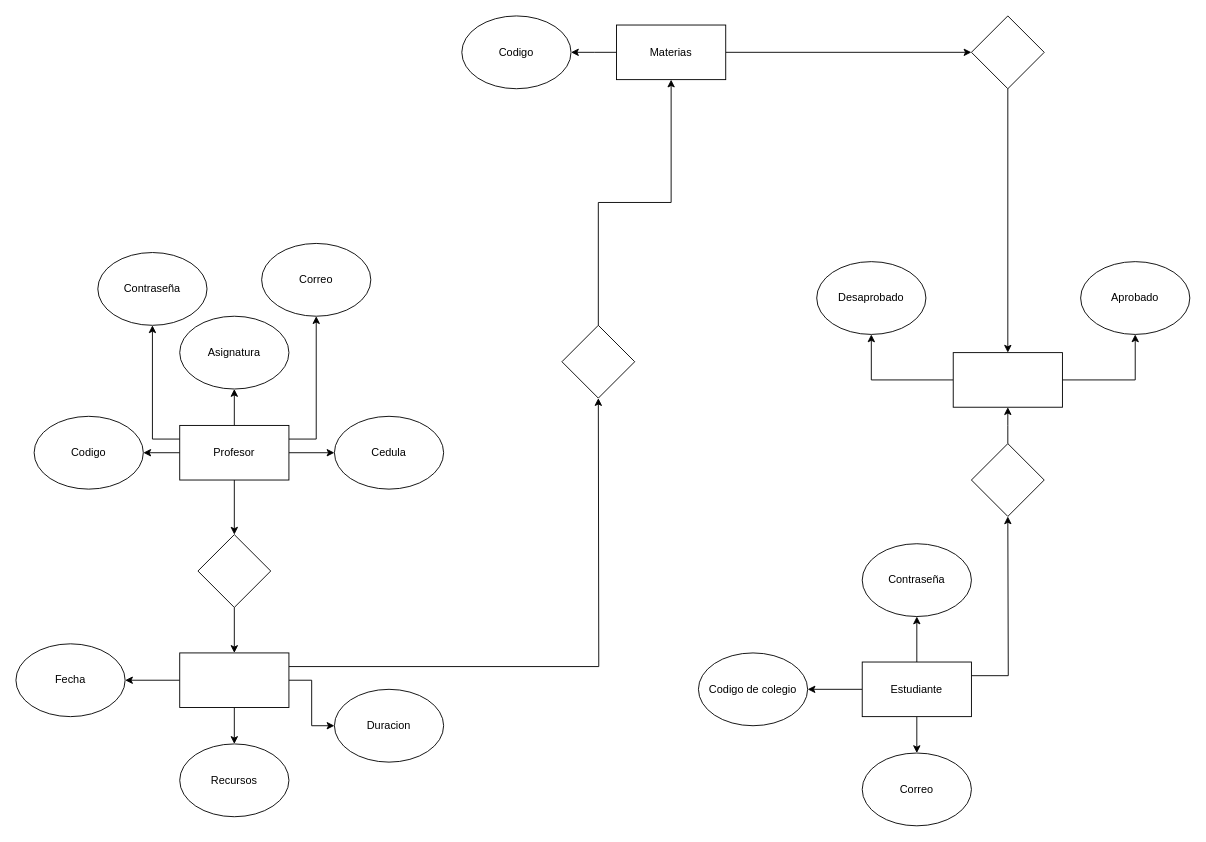
Image size: 1206x842. Some labels were removed from this diagram. The shapes that lost their labels are listed below. From the top down, each one's centre as x and y in pixels, then its label:
the point at 1007,52: Es un
the point at 598,361: De Ciertas
the point at 1007,379: Curso
the point at 1007,479: Tiene
the point at 234,570: Monta
the point at 234,680: Contenido
